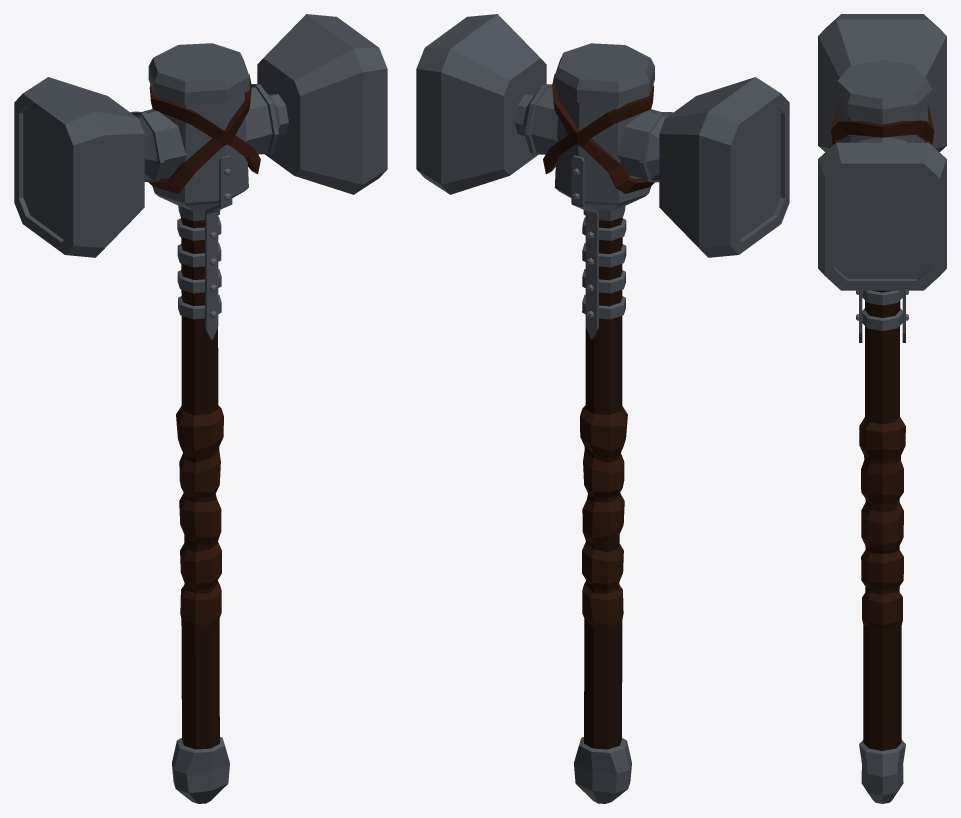
Rendered from Hammer_Double.glb.
3 renders of one model, left to right at view 1: azimuth 30°, elevation 25°; view 2: azimuth 150°, elevation 25°; view 3: azimuth 270°, elevation 25°, orthographic. The views are drawn at different scales.
Parts seen in each view (by area): view 1: Hammer_Double; view 2: Hammer_Double; view 3: Hammer_Double.
Part boxes in pixels (x1,y1,x2,y2): Hammer_Double: (14, 14, 387, 803); Hammer_Double: (416, 14, 789, 803); Hammer_Double: (818, 14, 946, 803).
Bounding box in the file's own units: 0.3547 × 0.7954 × 0.1289.
